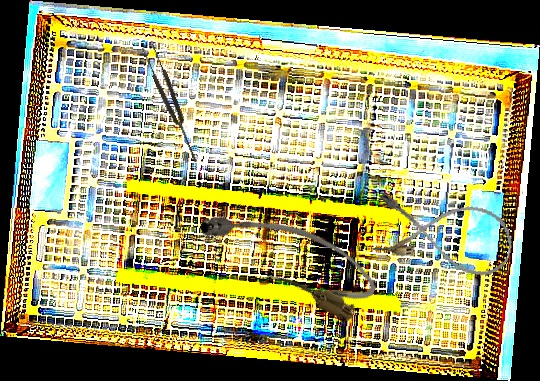Cannula: (192, 184, 385, 327), (368, 187, 520, 281)
Tissue Forceps: (140, 42, 203, 166)
